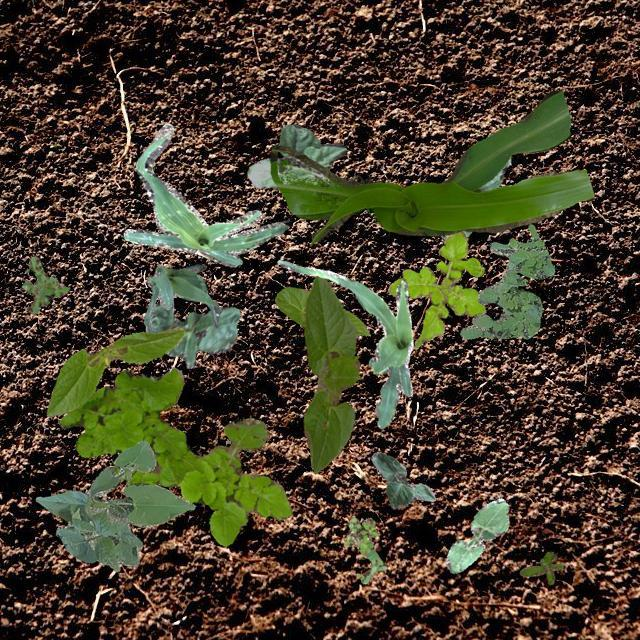crop: (270, 90, 592, 243), (122, 122, 288, 266), (276, 258, 412, 428), (34, 440, 194, 570), (46, 326, 184, 416), (302, 274, 358, 472), (247, 124, 346, 188), (144, 300, 238, 366), (439, 158, 509, 238), (142, 262, 218, 330), (444, 498, 508, 572), (274, 286, 368, 334), (370, 452, 434, 508)
weed: (58, 366, 290, 544), (388, 230, 484, 346), (458, 224, 554, 338), (342, 516, 386, 582), (21, 255, 68, 312), (518, 550, 562, 584)
